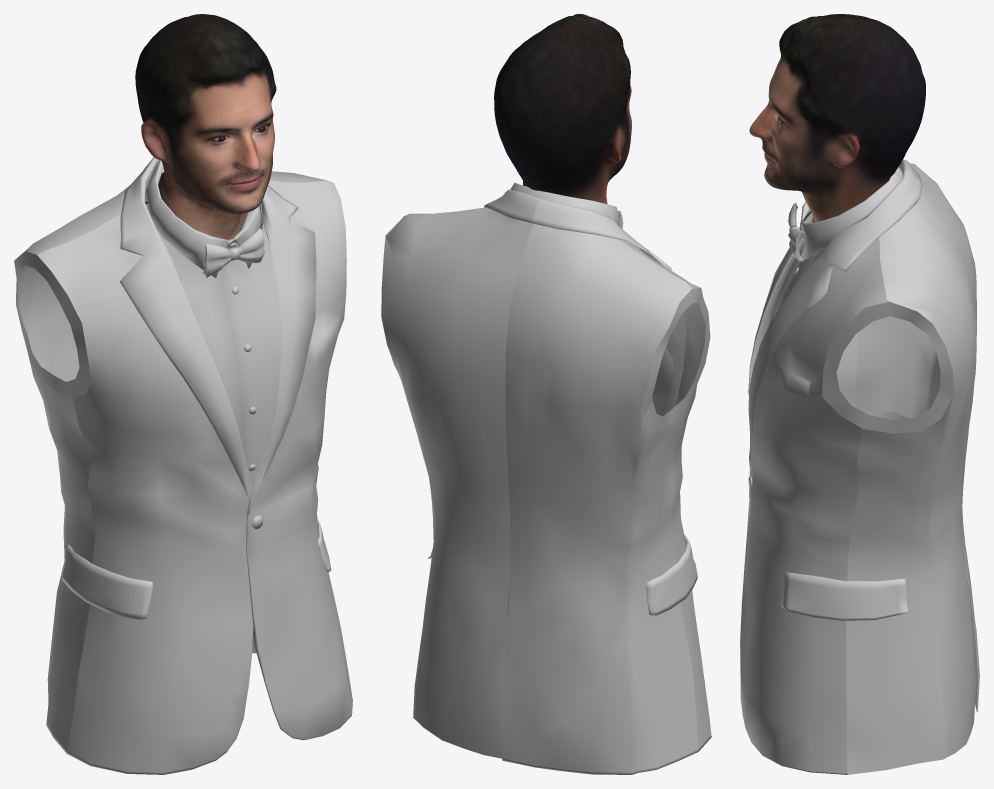
The model's file is JhonTorzo.fbx.
3 views of the same model, side by side, from view 1: azimuth 30°, elevation 25°; view 2: azimuth 150°, elevation 25°; view 3: azimuth 270°, elevation 25° (orthographic).
Parts seen in each view (by area): view 1: 4_Object08_0.1_16_16, model.002, 4_Object06_0.1_16_16; view 2: 4_Object08_0.1_16_16, model.002, 4_Object06_0.1_16_16; view 3: 4_Object08_0.1_16_16, model.002, 4_Object06_0.1_16_16.
Boxes of the visible parts, x1=… form: 4_Object08_0.1_16_16: x1=14, y1=157, x2=352, y2=774; model.002: x1=135, y1=14, x2=276, y2=239; 4_Object06_0.1_16_16: x1=145, y1=160, x2=281, y2=488; 4_Object08_0.1_16_16: x1=381, y1=189, x2=711, y2=774; model.002: x1=494, y1=14, x2=631, y2=203; 4_Object06_0.1_16_16: x1=510, y1=182, x2=686, y2=416; 4_Object08_0.1_16_16: x1=740, y1=159, x2=979, y2=774; model.002: x1=749, y1=14, x2=925, y2=222; 4_Object06_0.1_16_16: x1=769, y1=166, x2=908, y2=419.
Bounding box in the file's own units: 201 × 450 × 141.
